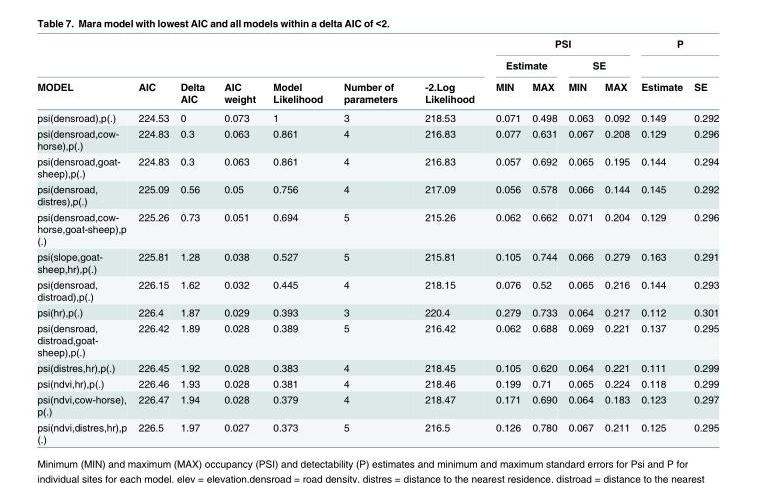table: (36, 37, 718, 444)
table column: (36, 37, 131, 444), (332, 37, 410, 444), (410, 37, 484, 444), (263, 37, 332, 444), (634, 37, 687, 444), (213, 37, 263, 444), (131, 37, 174, 444), (484, 37, 525, 444), (174, 37, 213, 444), (525, 37, 562, 444), (562, 37, 598, 444), (598, 37, 634, 444), (687, 37, 718, 444)
table column header: (36, 37, 718, 107)
table row: (36, 208, 718, 248), (36, 319, 718, 359), (36, 75, 718, 107), (36, 125, 718, 153), (36, 180, 718, 208), (36, 248, 718, 276), (36, 153, 718, 180), (36, 276, 718, 303), (36, 391, 718, 418), (36, 418, 718, 444), (36, 53, 718, 75), (36, 107, 718, 125), (36, 37, 718, 53), (36, 303, 718, 319), (36, 359, 718, 375), (36, 375, 718, 391)
table spanning cell: (36, 37, 131, 107), (332, 37, 410, 107), (410, 37, 484, 107), (263, 37, 332, 107), (213, 37, 263, 107), (131, 37, 174, 107), (634, 53, 687, 107), (174, 37, 213, 107), (484, 37, 634, 53), (484, 53, 562, 75), (687, 53, 718, 107), (562, 53, 634, 75), (634, 37, 718, 53)
